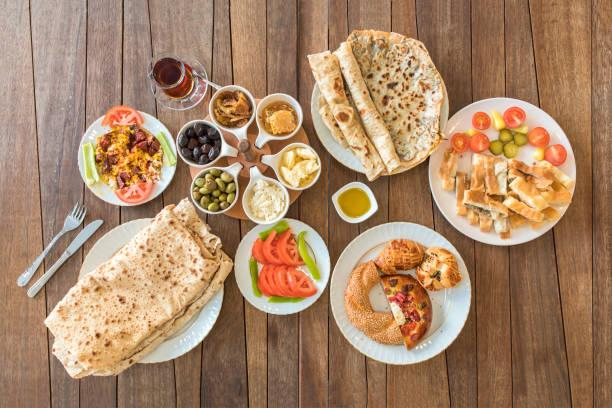Braised Crucian Carp: (36, 218, 223, 362), (429, 96, 577, 245), (328, 221, 469, 366), (311, 40, 439, 177), (77, 110, 176, 206), (233, 219, 331, 315)
